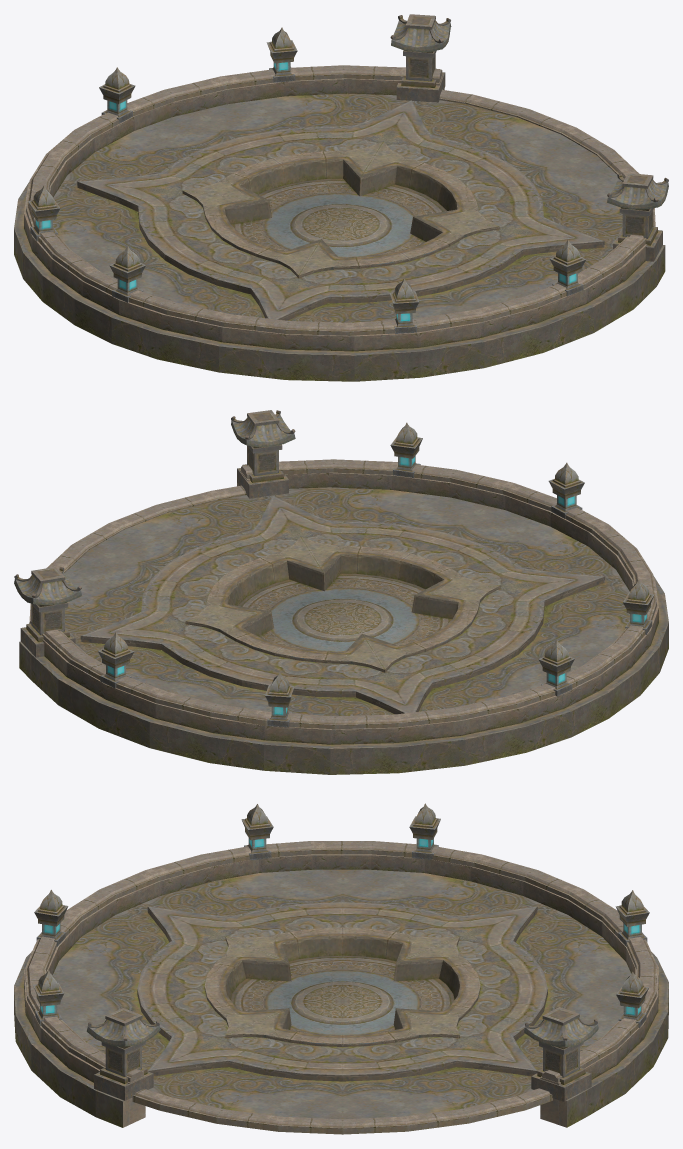
The model's file is xinshoubujian3.FBX.
The picture shows the model from 3 angles, top to bottom: view 1: azimuth 30°, elevation 25°; view 2: azimuth 150°, elevation 25°; view 3: azimuth 270°, elevation 25°; orthographic projection.
Visible parts, largest first — view 1: Mesh_0040; view 2: Mesh_0040; view 3: Mesh_0040.
Part boxes in pixels (x1,y1,x2,y2): Mesh_0040: [14, 14, 668, 381]; Mesh_0040: [14, 410, 668, 774]; Mesh_0040: [14, 803, 668, 1134].
Size of the model in its own units: 49.48 by 8.41 by 50.
Materials: 1 (1 with a texture image).
